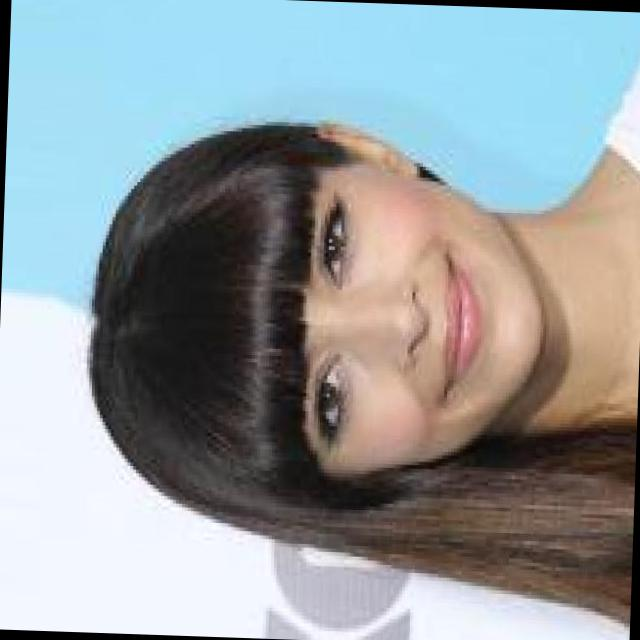bareface: (184, 131, 571, 495)
